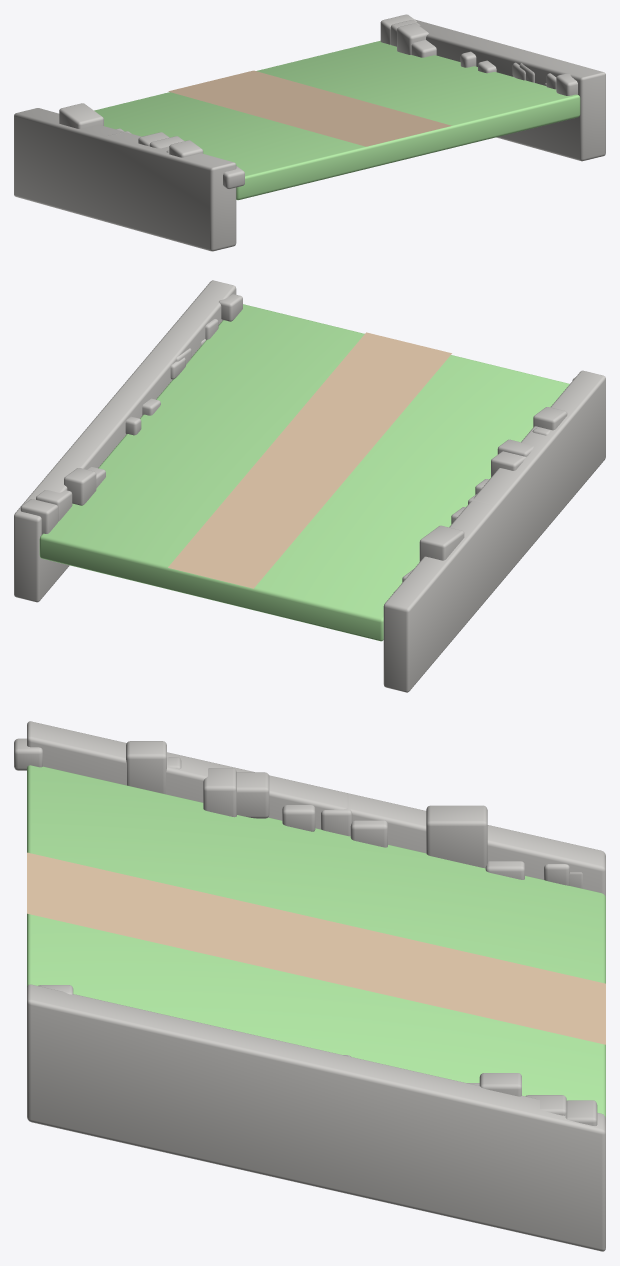
Rendered from chunk_slope.glb.
3 renders of one model, top to bottom at view 1: azimuth 30°, elevation 25°; view 2: azimuth 150°, elevation 25°; view 3: azimuth 270°, elevation 25°, orthographic. The views are drawn at different scales.
Visible parts, largest first — view 1: Chunk_Slope_surface, Chunk_Slope_cliff.001, Chunk_Slope_path, Chunk_Slope_cliff, Chunk_Slope_rock_l3, Chunk_Slope_rock_r2, Chunk_Slope_rock_l11, Chunk_Slope_rock_r13, Chunk_Slope_rock_r0, Chunk_Slope_rock_l13, Chunk_Slope_rock_r3; view 2: Chunk_Slope_surface, Chunk_Slope_path, Chunk_Slope_cliff.001, Chunk_Slope_cliff, Chunk_Slope_rock_l3, Chunk_Slope_rock_r2, Chunk_Slope_rock_r0, Chunk_Slope_rock_r1, Chunk_Slope_rock_l11; view 3: Chunk_Slope_surface, Chunk_Slope_cliff, Chunk_Slope_path, Chunk_Slope_cliff.001, Chunk_Slope_rock_l3, Chunk_Slope_rock_l11, Chunk_Slope_rock_l9, Chunk_Slope_rock_l8, Chunk_Slope_rock_l5, Chunk_Slope_rock_r2, Chunk_Slope_rock_l6, Chunk_Slope_rock_l7 (+2 smaller).
Boxes of the visible parts, bbox=[...] form: Chunk_Slope_surface: bbox=[94, 40, 580, 200]; Chunk_Slope_cliff.001: bbox=[14, 108, 236, 251]; Chunk_Slope_path: bbox=[168, 70, 451, 146]; Chunk_Slope_cliff: bbox=[415, 19, 605, 161]; Chunk_Slope_rock_l3: bbox=[59, 103, 103, 128]; Chunk_Slope_rock_r2: bbox=[397, 23, 428, 54]; Chunk_Slope_rock_l11: bbox=[169, 140, 203, 157]; Chunk_Slope_rock_r13: bbox=[556, 73, 577, 95]; Chunk_Slope_rock_r0: bbox=[380, 14, 416, 44]; Chunk_Slope_rock_l13: bbox=[223, 166, 244, 189]; Chunk_Slope_rock_r3: bbox=[411, 40, 436, 57]; Chunk_Slope_surface: bbox=[39, 304, 569, 641]; Chunk_Slope_path: bbox=[168, 332, 451, 588]; Chunk_Slope_cliff.001: bbox=[383, 370, 605, 692]; Chunk_Slope_cliff: bbox=[14, 280, 236, 602]; Chunk_Slope_rock_l3: bbox=[419, 525, 464, 561]; Chunk_Slope_rock_r2: bbox=[64, 468, 96, 505]; Chunk_Slope_rock_r0: bbox=[20, 499, 58, 534]; Chunk_Slope_rock_r1: bbox=[36, 490, 72, 521]; Chunk_Slope_rock_l11: bbox=[533, 407, 567, 430]; Chunk_Slope_surface: bbox=[27, 765, 605, 1117]; Chunk_Slope_cliff: bbox=[27, 984, 605, 1251]; Chunk_Slope_path: bbox=[27, 852, 605, 1044]; Chunk_Slope_cliff.001: bbox=[27, 721, 605, 897]; Chunk_Slope_rock_l3: bbox=[426, 805, 487, 868]; Chunk_Slope_rock_l11: bbox=[126, 741, 166, 794]; Chunk_Slope_rock_l9: bbox=[203, 768, 236, 817]; Chunk_Slope_rock_l8: bbox=[237, 772, 269, 818]; Chunk_Slope_rock_l5: bbox=[350, 820, 387, 847]; Chunk_Slope_rock_r2: bbox=[479, 1073, 521, 1096]; Chunk_Slope_rock_l6: bbox=[321, 794, 352, 836]; Chunk_Slope_rock_l7: bbox=[282, 805, 315, 831].
Size of the model in its own units: 27.6 by 11.51 by 24.54.
